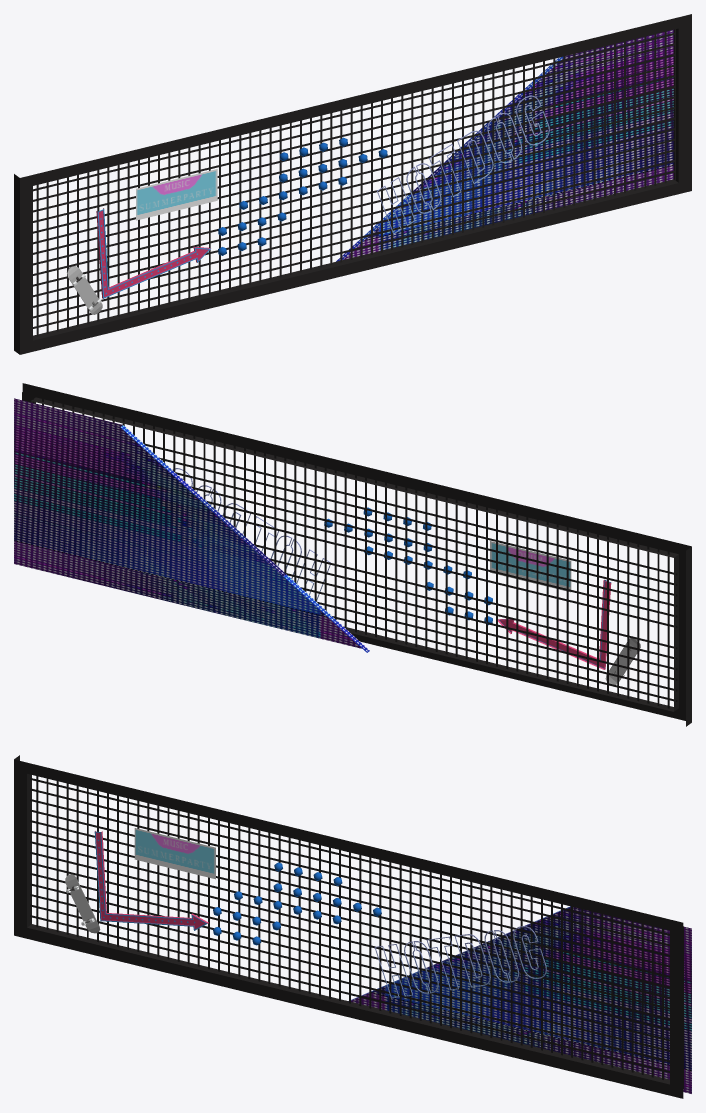
Rendered from M_Ttiejiaqiang01.FBX.
3 views of the same model, one above another, from view 1: azimuth 30°, elevation 25°; view 2: azimuth 150°, elevation 25°; view 3: azimuth 330°, elevation 25° (orthographic).
Parts seen in each view (by area): view 1: M_Ttiejiaqiang01_01, M_Ttiejiaqiang01_06, M_Ttiejiaqiang01_14, M_Ttiejiaqiang01_05, M_Ttiejiaqiang01_02, M_Ttiejiaqiang01_10, M_Ttiejiaqiang01_13, M_Ttiejiaqiang01_11; view 2: M_Ttiejiaqiang01_01, M_Ttiejiaqiang01_06, M_Ttiejiaqiang01_14, M_Ttiejiaqiang01_10, M_Ttiejiaqiang01_02, M_Ttiejiaqiang01_05, M_Ttiejiaqiang01_11; view 3: M_Ttiejiaqiang01_01, M_Ttiejiaqiang01_06, M_Ttiejiaqiang01_14, M_Ttiejiaqiang01_05, M_Ttiejiaqiang01_02, M_Ttiejiaqiang01_10, M_Ttiejiaqiang01_13, M_Ttiejiaqiang01_11.
Part boxes in pixels (x1,y1,x2,y2): M_Ttiejiaqiang01_01: (14,14,691,354); M_Ttiejiaqiang01_06: (336,29,673,261); M_Ttiejiaqiang01_14: (136,169,217,220); M_Ttiejiaqiang01_05: (377,95,549,234); M_Ttiejiaqiang01_02: (218,137,387,255); M_Ttiejiaqiang01_10: (96,208,210,298); M_Ttiejiaqiang01_13: (97,209,210,298); M_Ttiejiaqiang01_11: (67,266,102,314); M_Ttiejiaqiang01_01: (22,383,691,726); M_Ttiejiaqiang01_06: (14,398,369,652); M_Ttiejiaqiang01_14: (490,541,571,592); M_Ttiejiaqiang01_10: (498,580,611,669); M_Ttiejiaqiang01_02: (324,507,492,625); M_Ttiejiaqiang01_05: (172,468,330,600); M_Ttiejiaqiang01_11: (606,638,639,684); M_Ttiejiaqiang01_01: (14,755,683,1098); M_Ttiejiaqiang01_06: (348,906,691,1093); M_Ttiejiaqiang01_14: (134,828,215,879); M_Ttiejiaqiang01_05: (374,926,546,998); M_Ttiejiaqiang01_02: (213,862,381,945); M_Ttiejiaqiang01_10: (95,831,208,928); M_Ttiejiaqiang01_13: (94,831,207,930); M_Ttiejiaqiang01_11: (65,874,99,933).
Bounding box in the file's own units: 20.06 × 5.03 × 0.5908.
